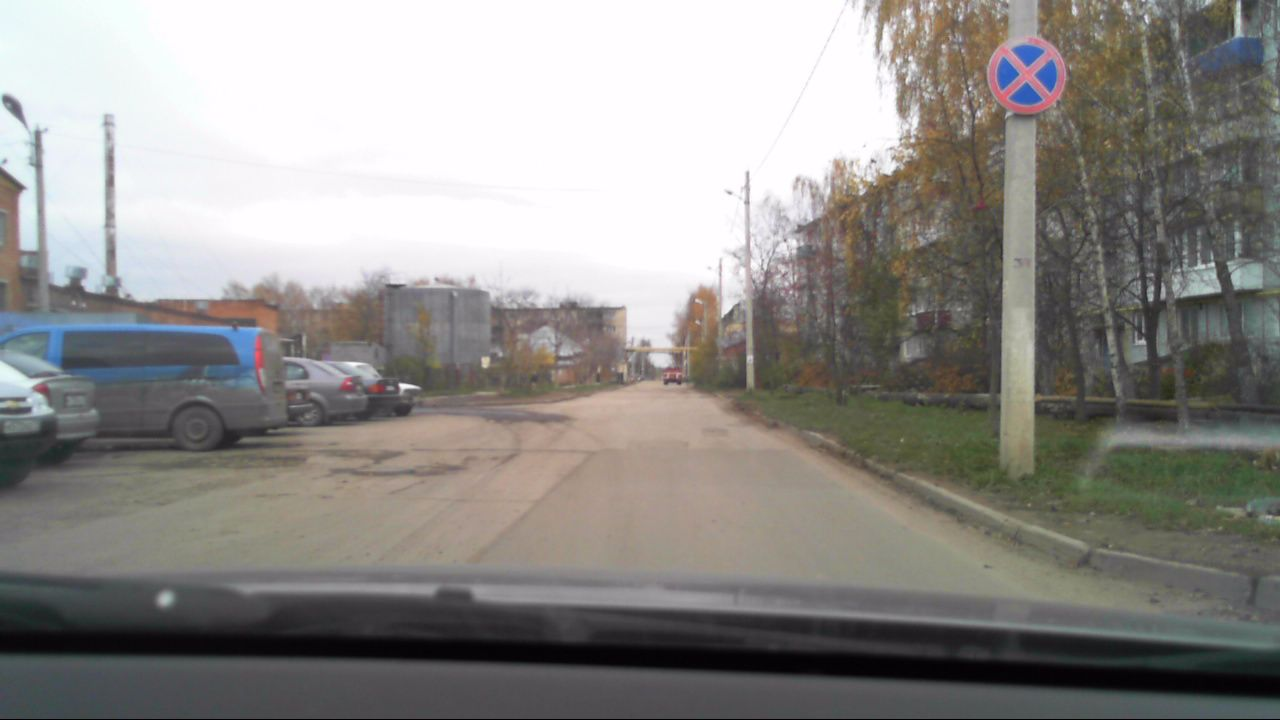No Parking: (986, 34, 1066, 118)
